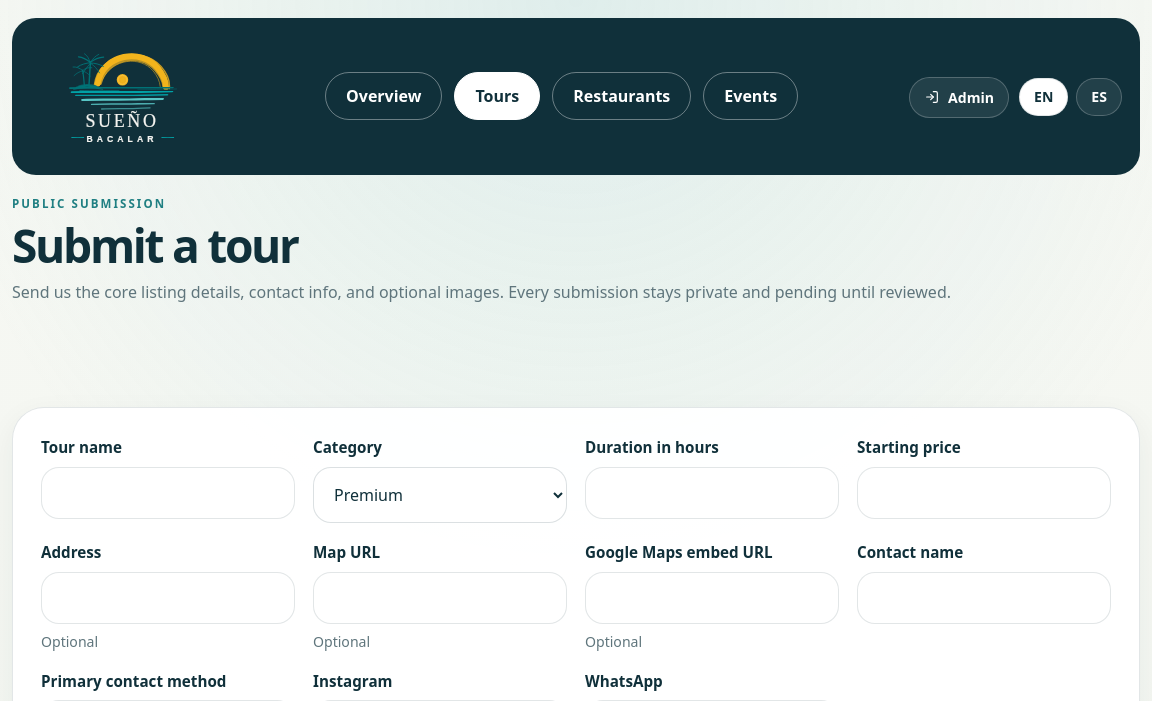
Scenario: TourSubmissionPage › renders server-side submission errors when the final save fails
The width and height of the screenshot is (1152, 701).
Type "Sunrise Sail" into the field named "Tour name". click: (168, 493)
box: [41,467,295,519]
Select "Premium" in the dropdown named "Category". click: (440, 495)
box: [313,467,567,523]
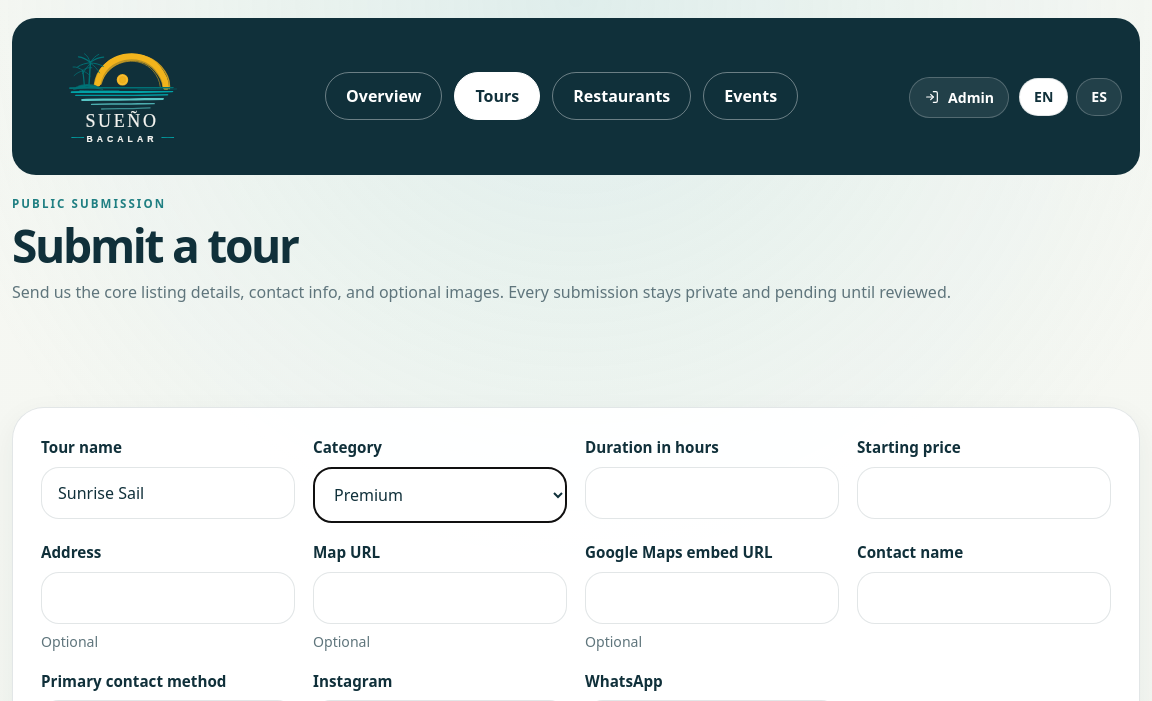
Type "4" into the field named "Duration in hours". click: (712, 493)
box: [585,467,839,519]
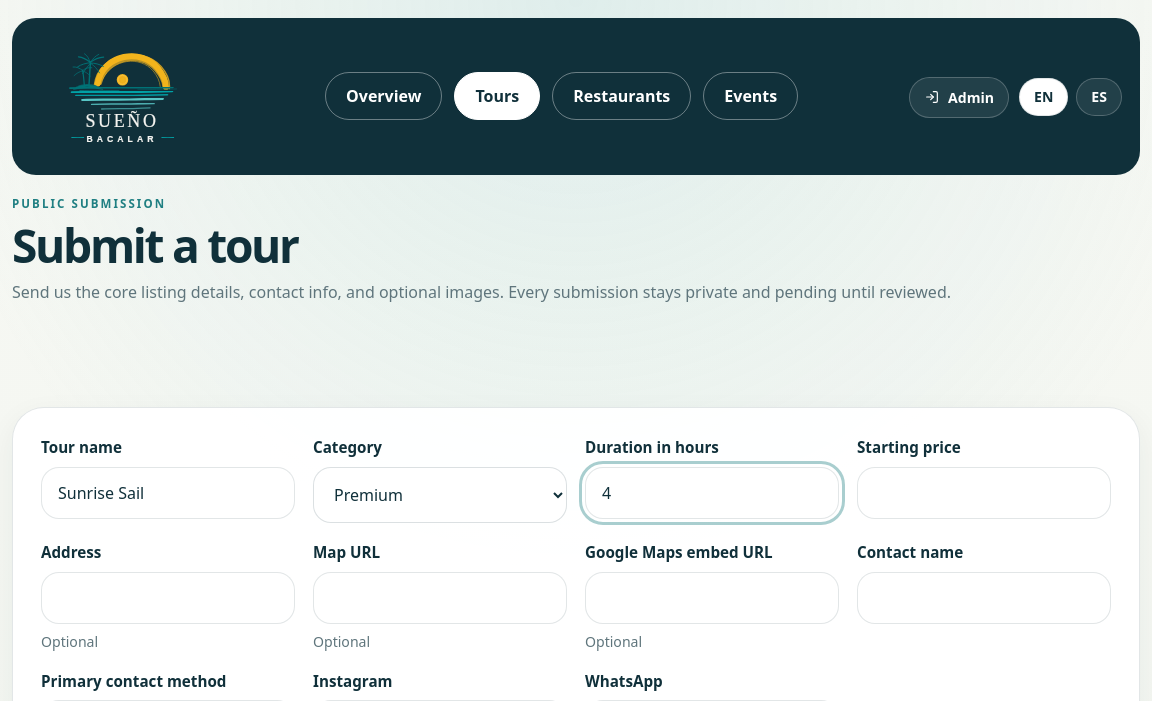
Type "2100" into the field named "Starting price". click: (984, 493)
box: [857,467,1111,519]
(page scrolled)
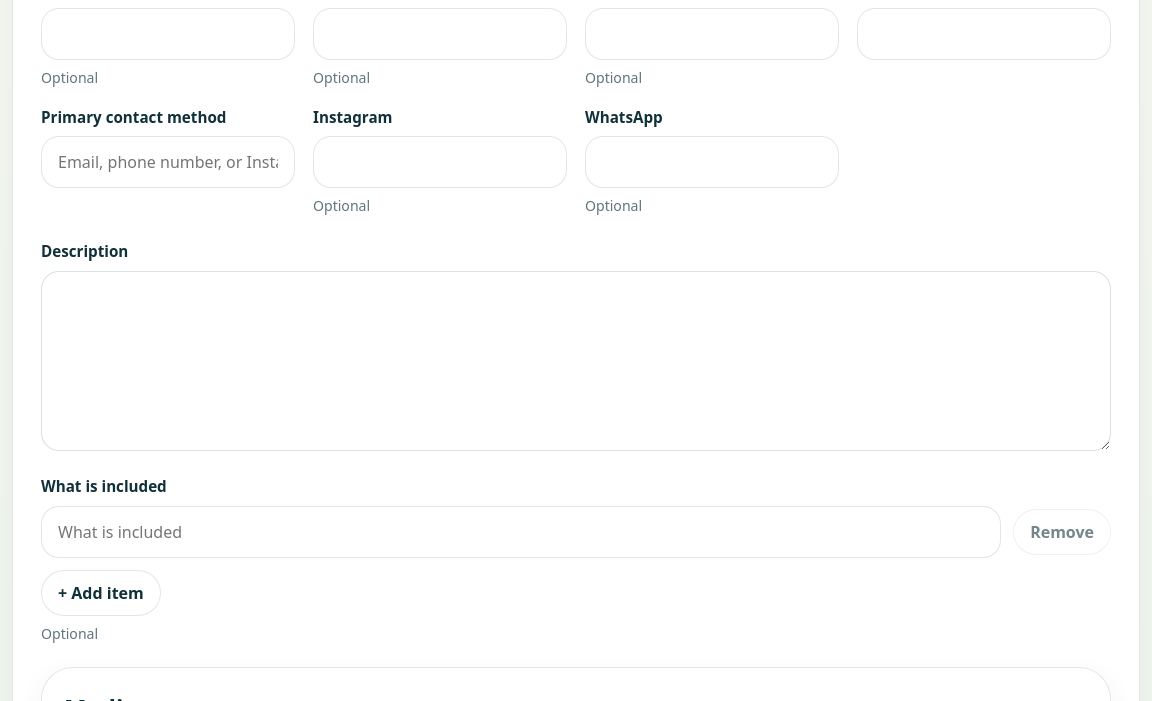
Type "A private sunrise sailing tour with a calm route and a polished crew handoff." into the text box named "Description". click: (576, 361)
box: [41,271,1111,451]
Type "Maya Cruz" into the field named "Contact name". click: (984, 34)
box: [857,8,1111,60]
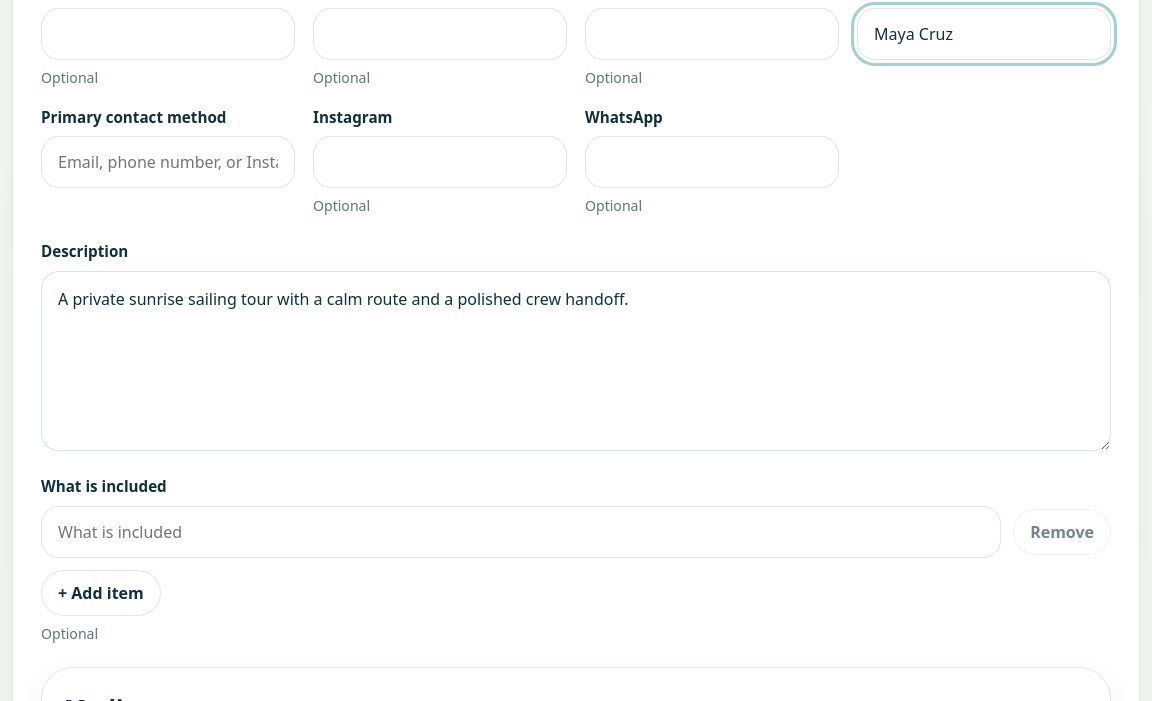
Type "maya@example.com" into the field named "Primary contact method". click: (168, 162)
box: [41,136,295,188]
(page scrolled)
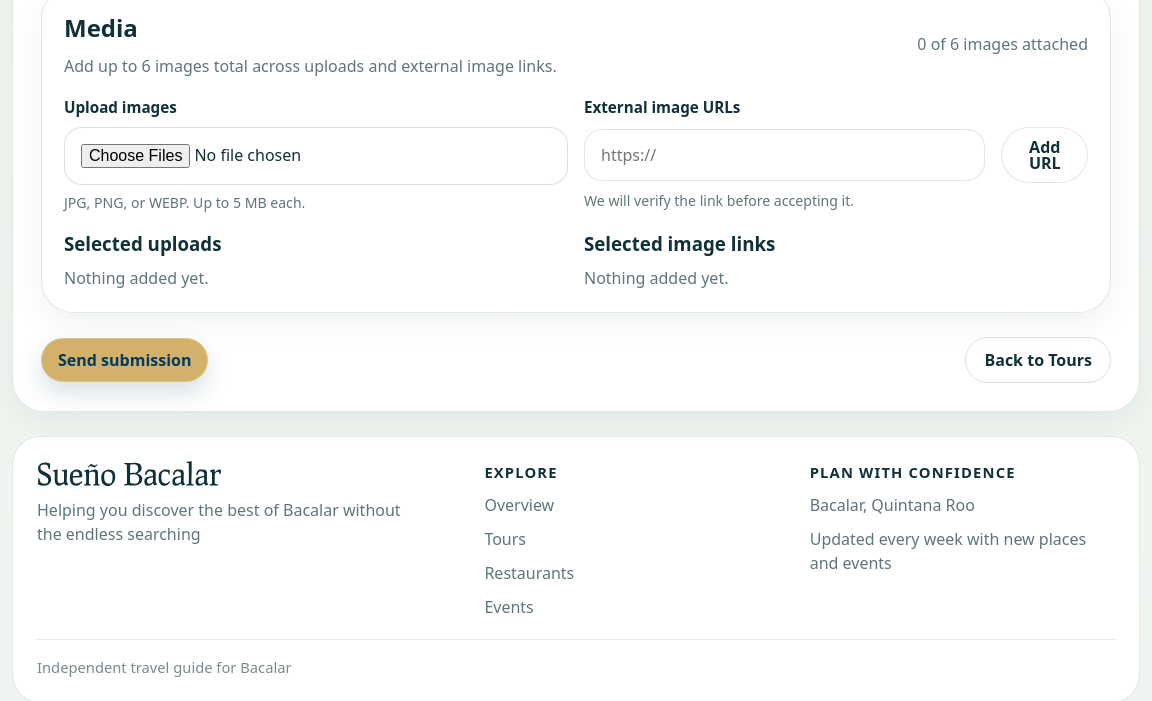
Click the button "Send submission". click: (125, 360)
box: [41,338,208,382]
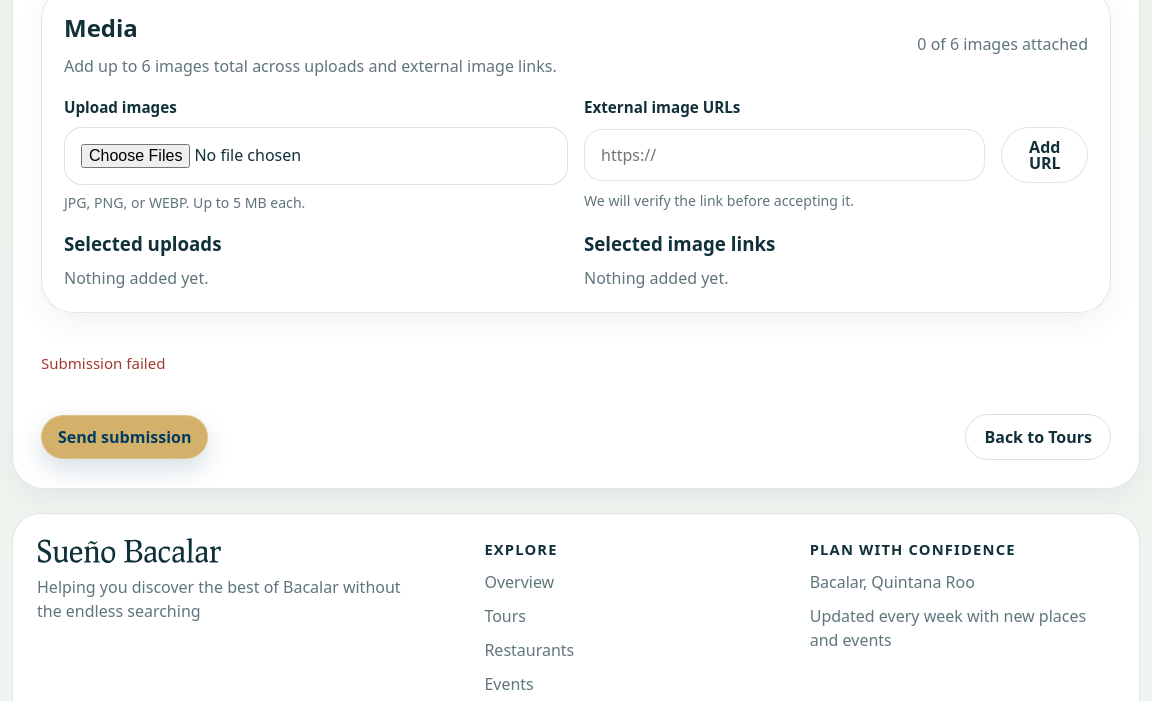
Expected: the text "Submission failed" is shown, [41,353,165,373]
